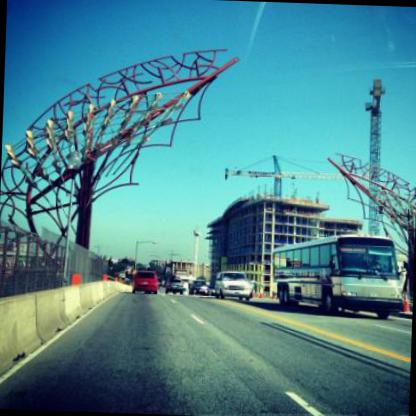car: (215, 270, 252, 300), (130, 270, 158, 294), (191, 278, 209, 296), (168, 277, 185, 292)
